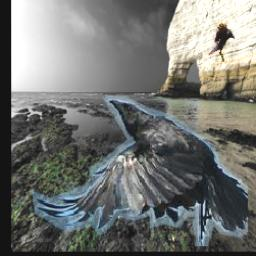Crow: (32, 97, 249, 247), (208, 23, 236, 62)
